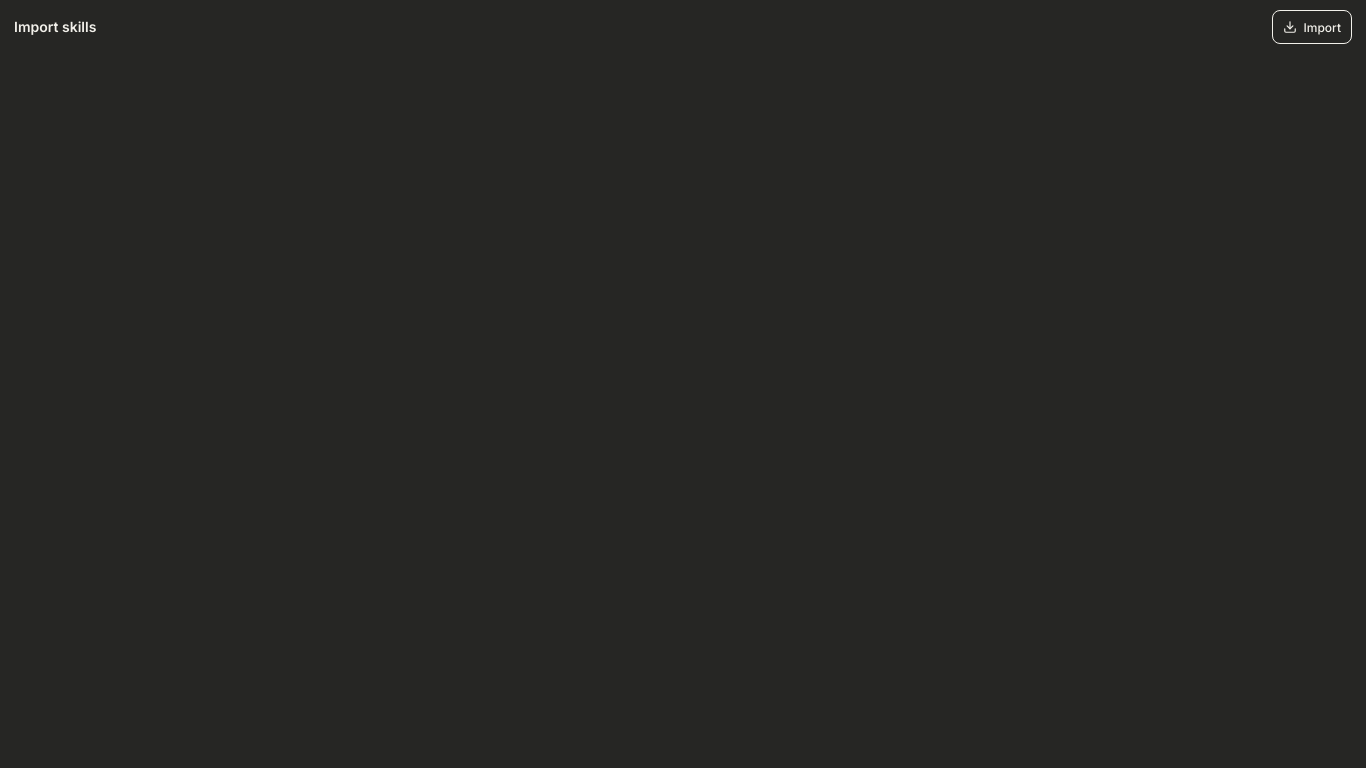
previews a source and installs only selected skills
Click the button "Import". click: {"x": 1312, "y": 27}
box: [1272,10,1352,44]
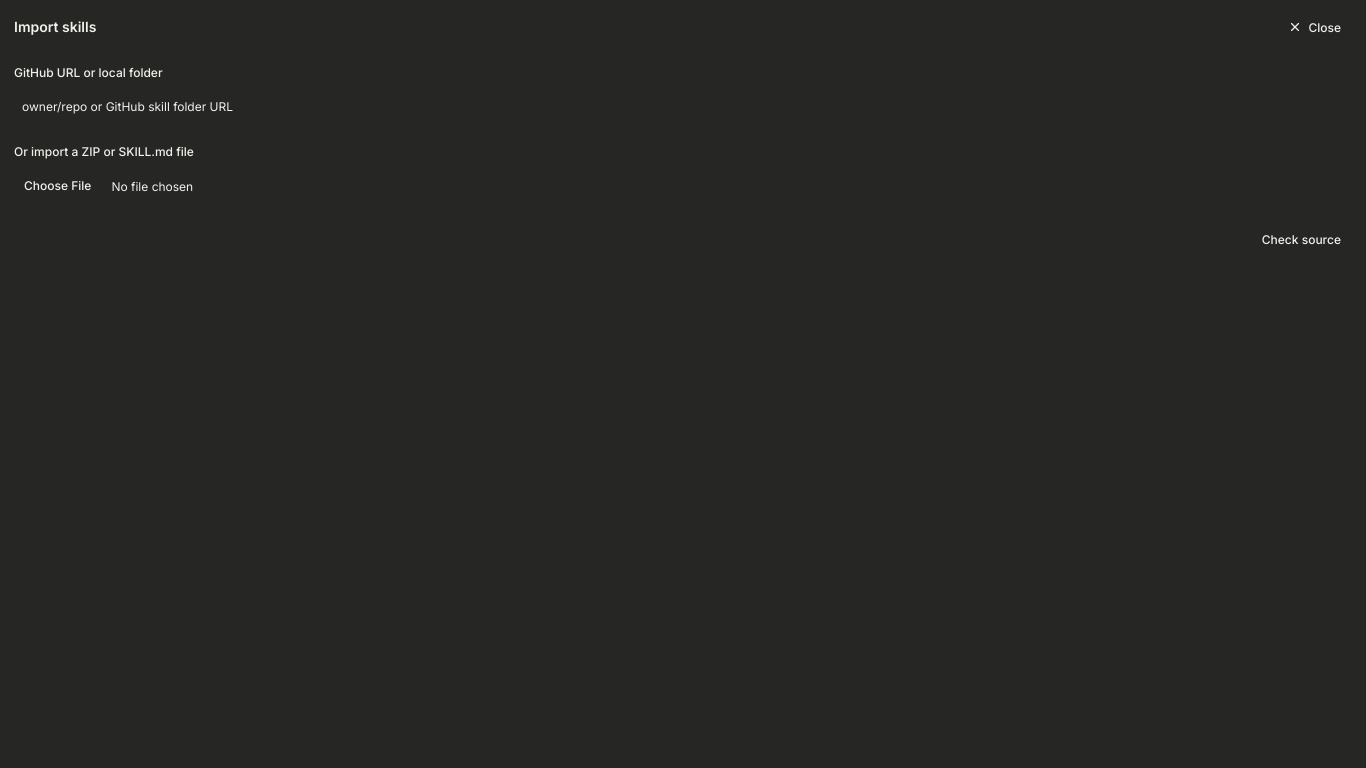
Type "owner/repo" into the field labelled "GitHub URL or local folder". click: {"x": 683, "y": 106}
box: [14,89,1352,123]
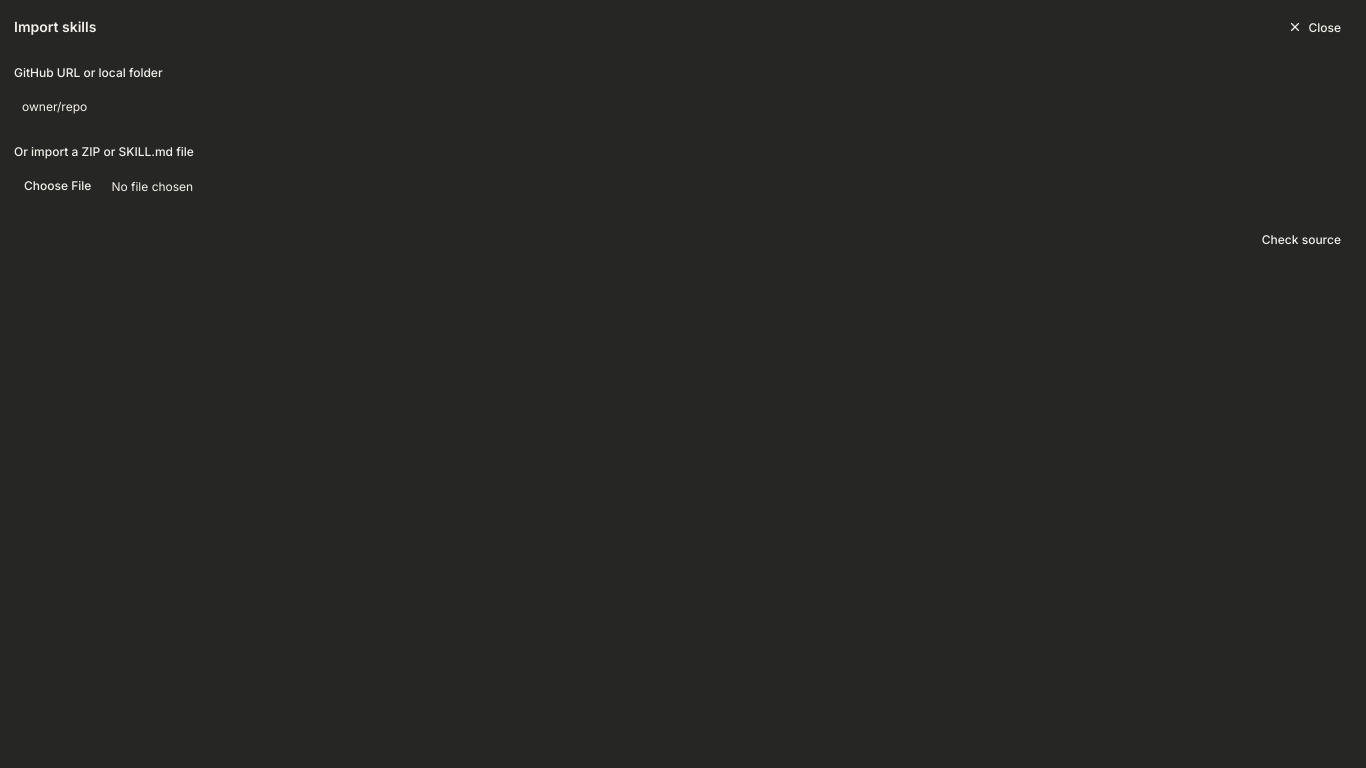
Click the button "Check source". click: {"x": 1301, "y": 240}
box: [1251,223,1352,257]
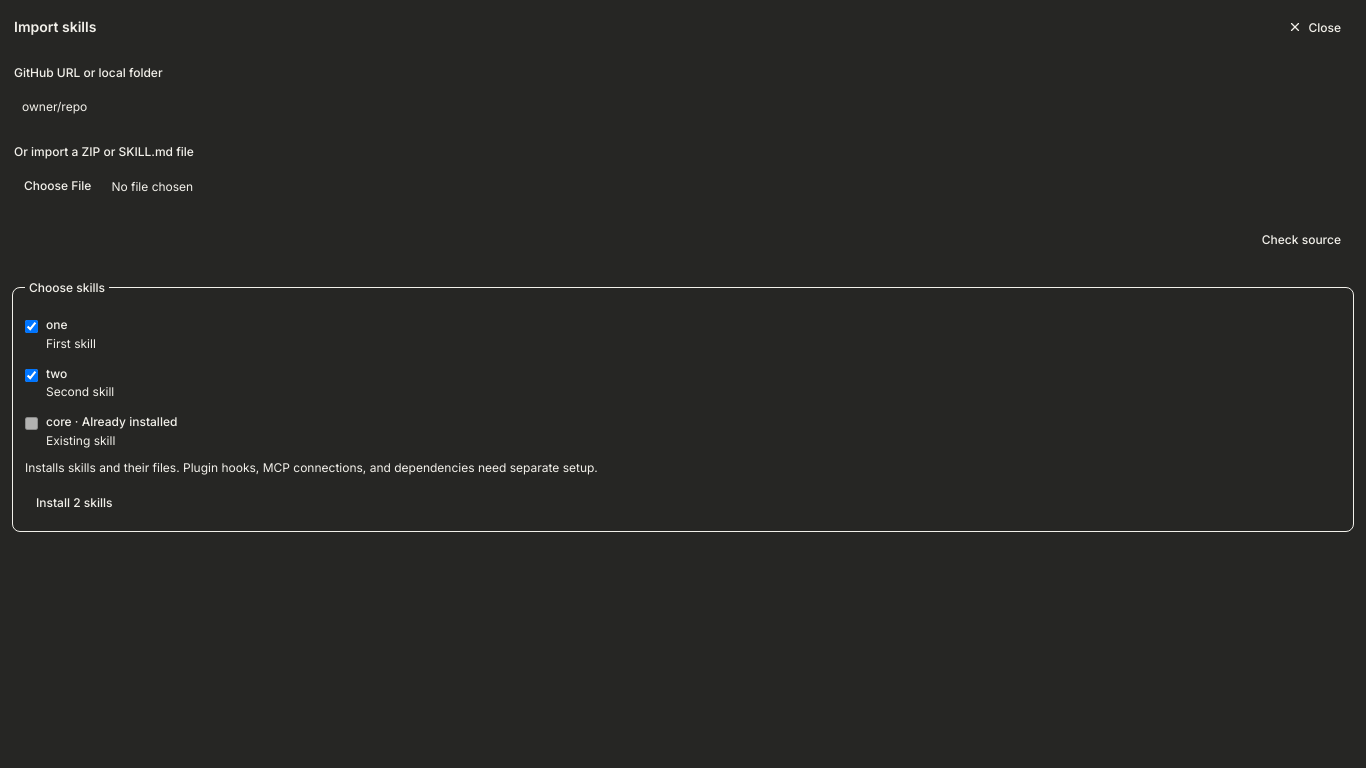
expect the element "Choose skills" is shown: met, box [12,279,1354,532]
expect the checkbox labelled "core · Already installed Existing skill" is disabled: met, box [25,417,38,430]
Click the checkbox labelled "two Second skill". click: {"x": 32, "y": 375}
box: [25,369,38,382]
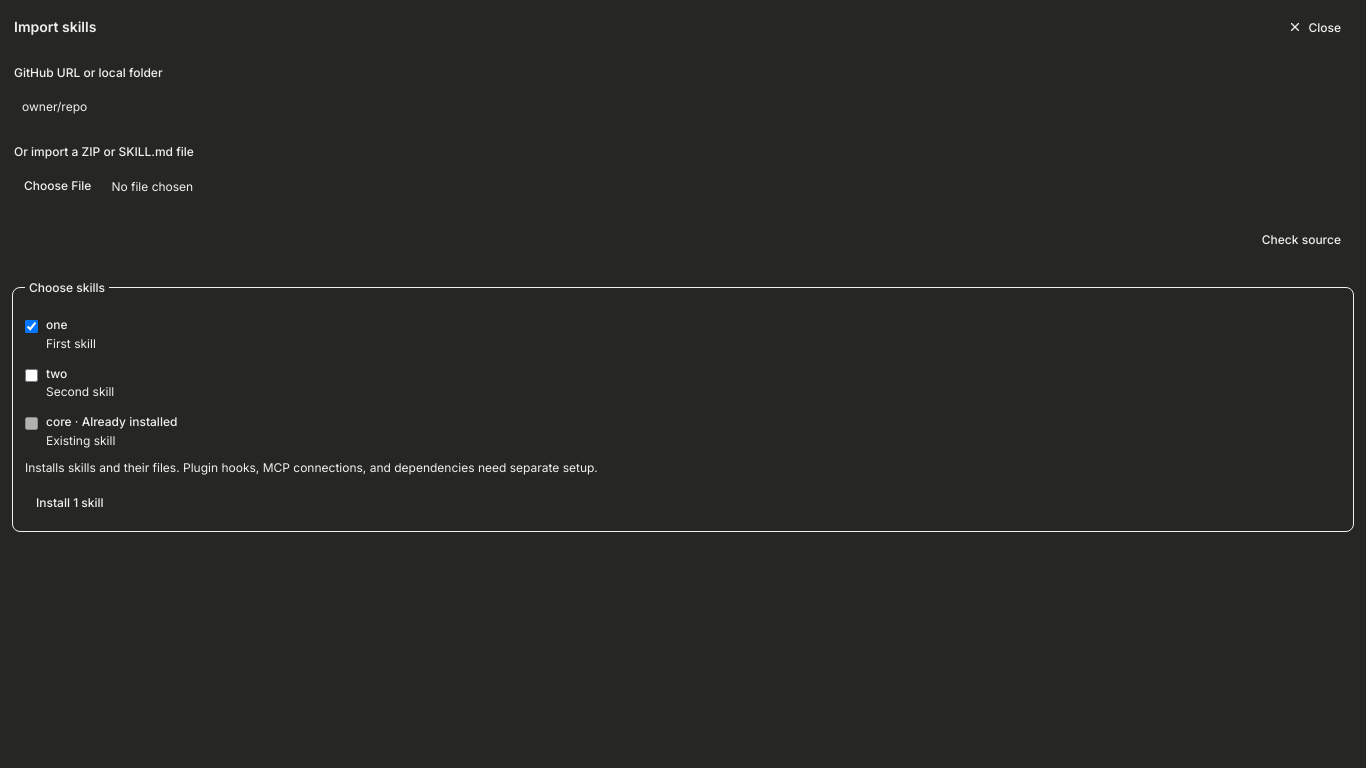
Click the button "Install 1 skill". click: {"x": 70, "y": 502}
box: [25,485,115,519]
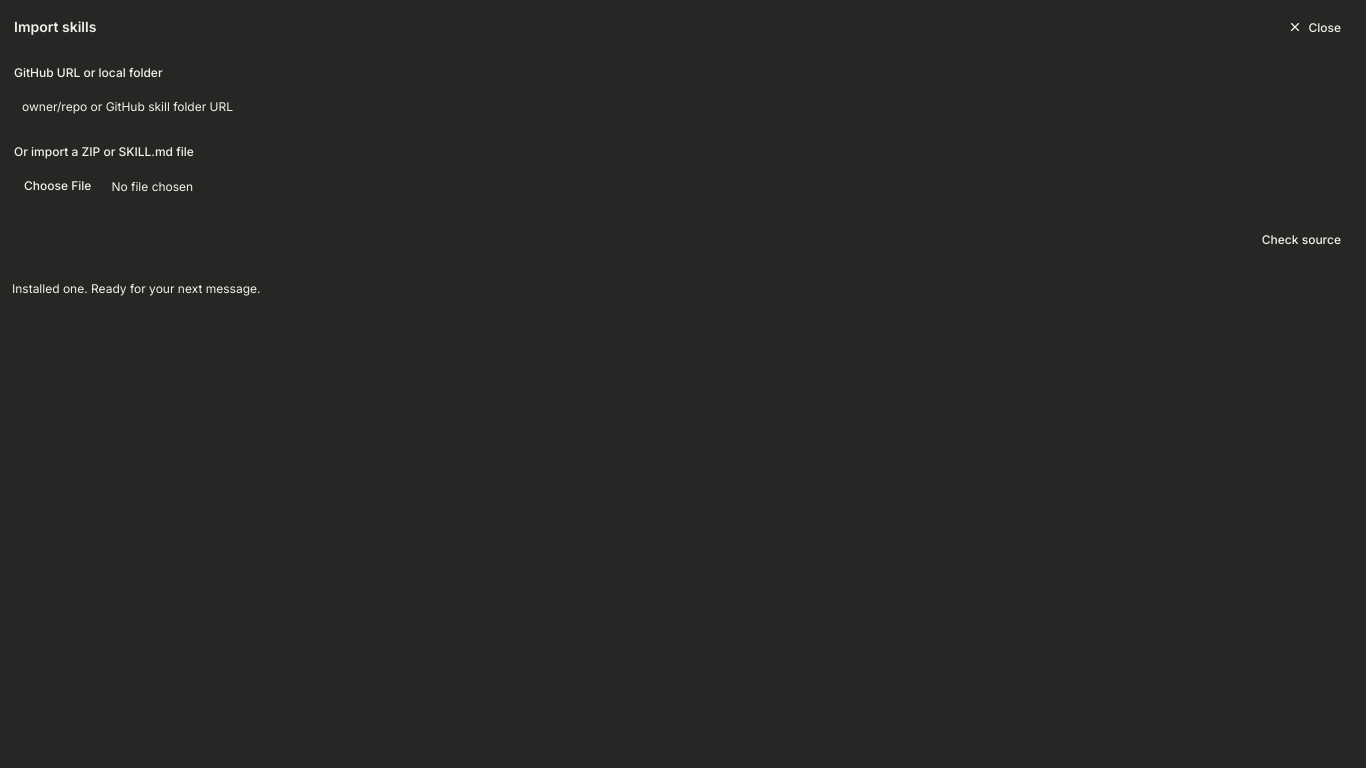
expect the message shows "Ready for your next message": met, box [12,281,260,296]
